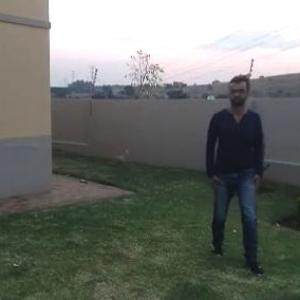follow: (198, 69, 251, 258)
